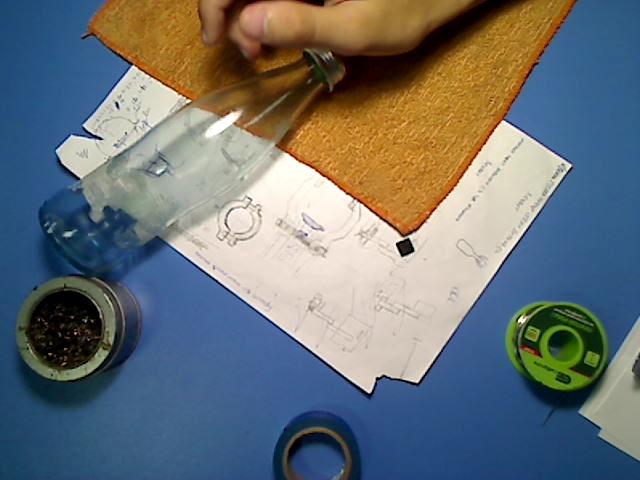bottle: (37, 46, 351, 278)
